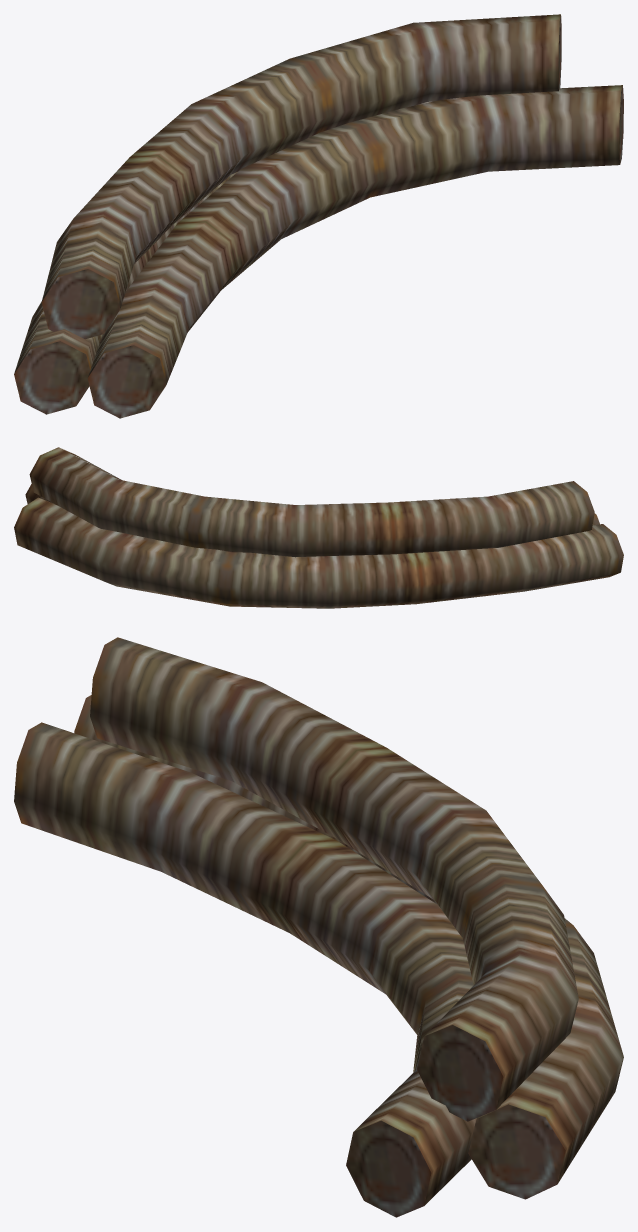
Rendered from tyt_arch_fleshraider_junk_17_cover.glb.
3 renders of one model, top to bottom at view 1: azimuth 30°, elevation 25°; view 2: azimuth 150°, elevation 25°; view 3: azimuth 270°, elevation 25°, orthographic. The views are drawn at different scales.
Parts seen in each view (by area): view 1: tyt_arch_fleshraider_junk_17_cover; view 2: tyt_arch_fleshraider_junk_17_cover; view 3: tyt_arch_fleshraider_junk_17_cover.
Boxes of the visible parts, <box> form: tyt_arch_fleshraider_junk_17_cover: <box>14,14,623,418</box>; tyt_arch_fleshraider_junk_17_cover: <box>14,447,623,608</box>; tyt_arch_fleshraider_junk_17_cover: <box>14,637,623,1217</box>.
Size of the model in its own units: 0.4164 by 0.0708 by 0.2331.
Materials: 1 (1 with a texture image).
